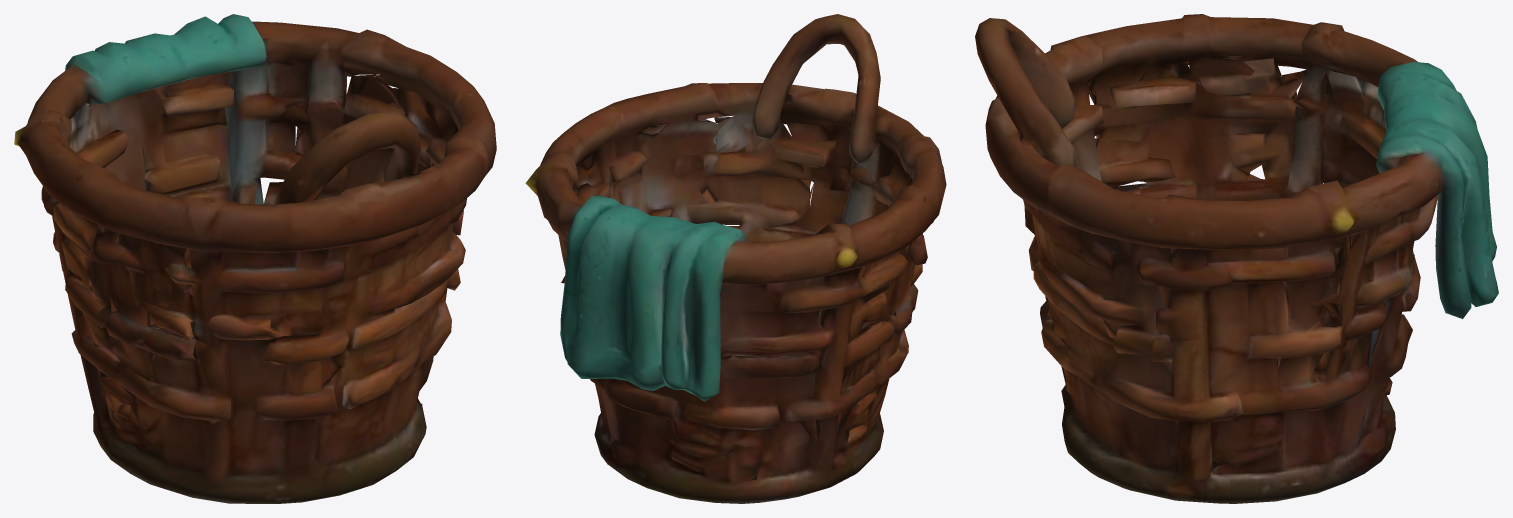
The model's file is deco_laundry.glb.
3 views of the same model, side by side, from view 1: azimuth 30°, elevation 25°; view 2: azimuth 150°, elevation 25°; view 3: azimuth 270°, elevation 25° (orthographic). The views are drawn at different scales.
Visible parts, largest first — view 1: tripo_node_660f21a8-0e9e-45d1-973e-3d4344d72288; view 2: tripo_node_660f21a8-0e9e-45d1-973e-3d4344d72288; view 3: tripo_node_660f21a8-0e9e-45d1-973e-3d4344d72288.
Boxes of the visible parts, x1,y1,x2,y2 form: tripo_node_660f21a8-0e9e-45d1-973e-3d4344d72288: [14, 14, 496, 503]; tripo_node_660f21a8-0e9e-45d1-973e-3d4344d72288: [525, 14, 946, 503]; tripo_node_660f21a8-0e9e-45d1-973e-3d4344d72288: [975, 14, 1498, 503].
Size of the model in its own units: 0.9105 by 0.8952 by 1.
1 material, 1 textured.
